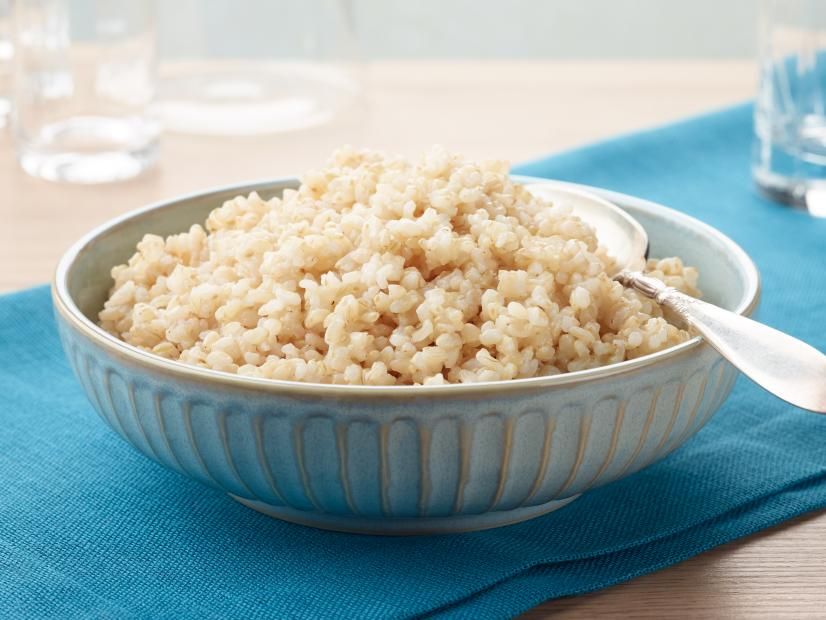rice: (197, 174, 630, 367)
